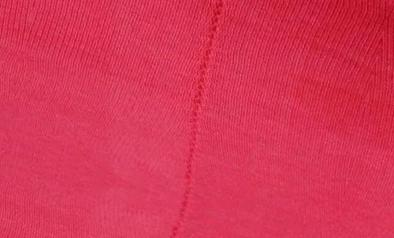slub: (172, 1, 222, 238)
